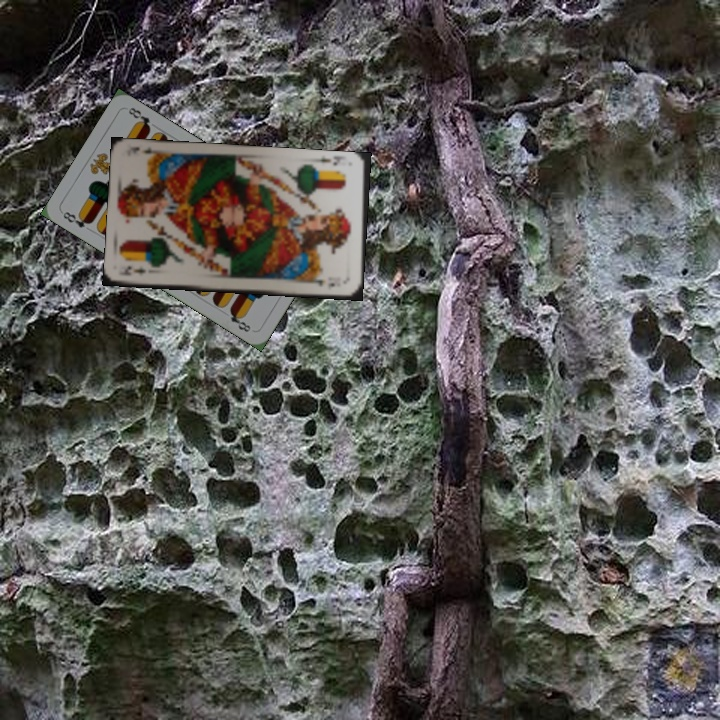E8: (59, 207, 94, 230)
EK: (118, 262, 148, 279), (314, 153, 348, 167)
